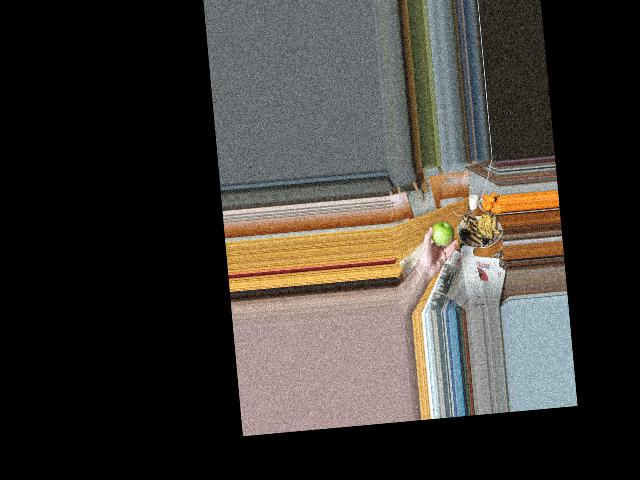apple: (430, 220, 454, 245)
